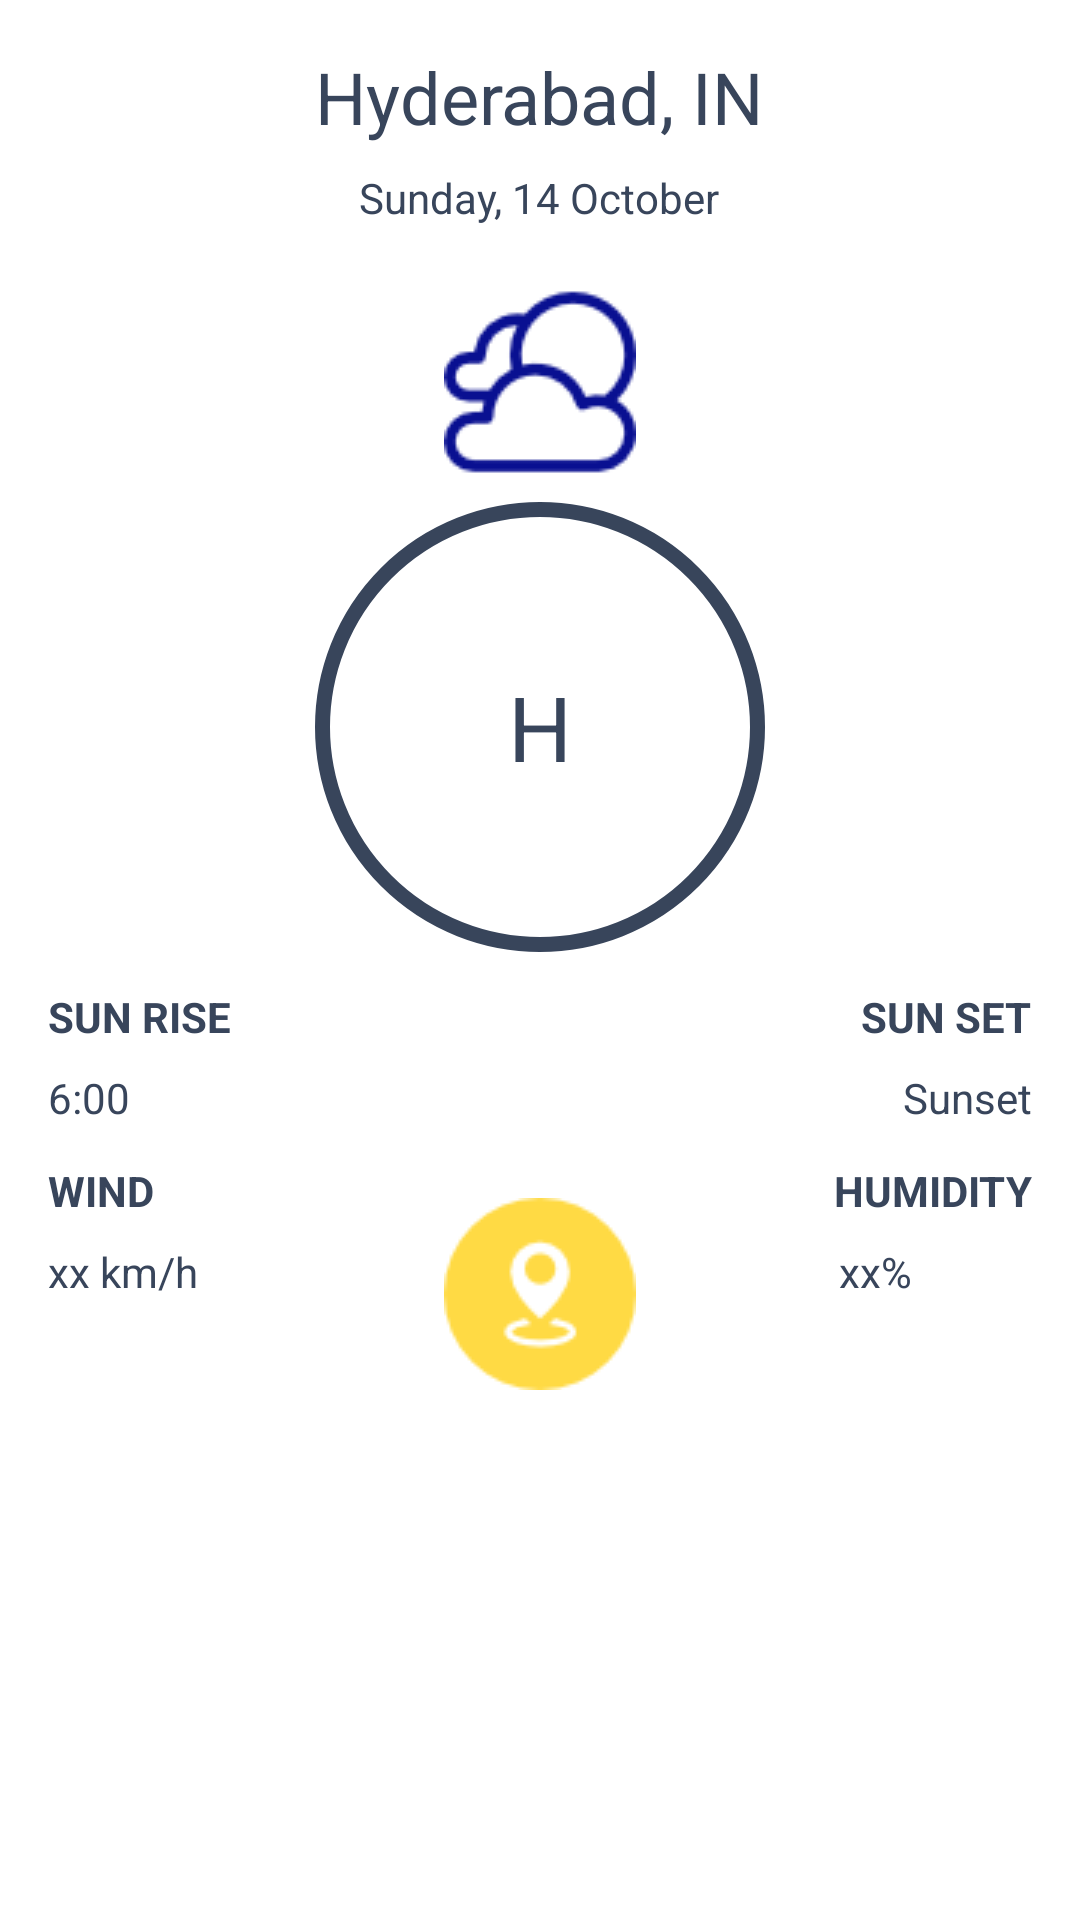

Point at icon controls on the screen. Image size 1080 x 1920, points as point (x, y).
cloudy: point (540, 382)
